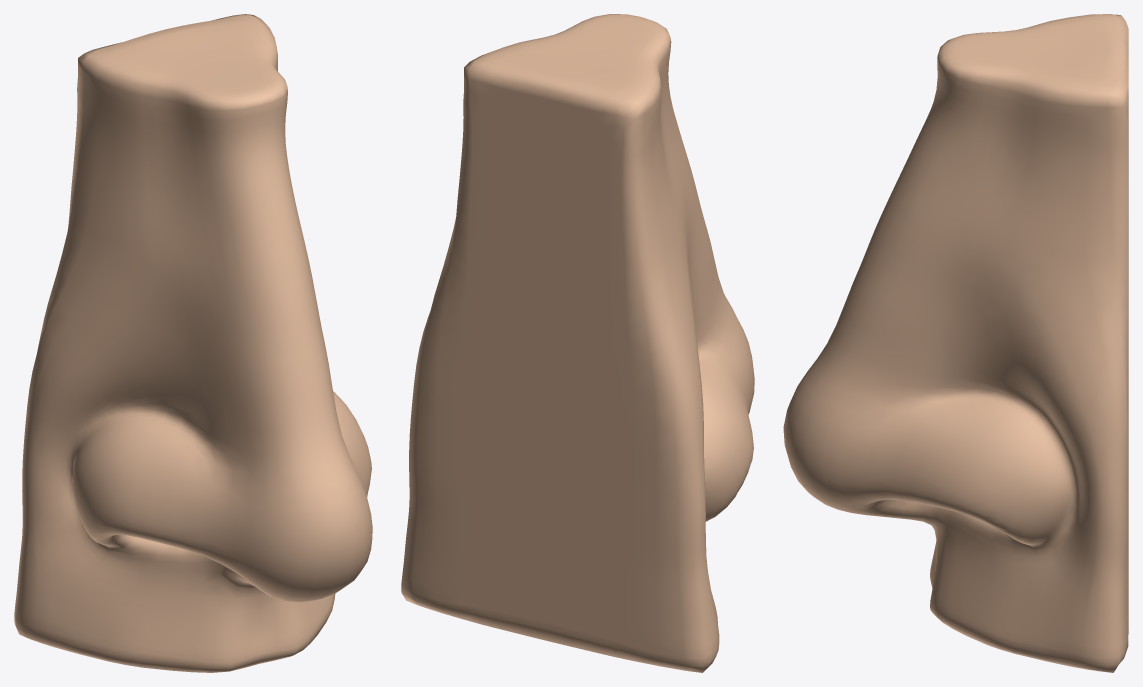
Rendered from hidung.glb.
3 views of the same model, side by side, from view 1: azimuth 30°, elevation 25°; view 2: azimuth 150°, elevation 25°; view 3: azimuth 270°, elevation 25° (orthographic). The views are drawn at different scales.
Parts seen in each view (by area): view 1: Retopo_Cube; view 2: Retopo_Cube; view 3: Retopo_Cube.
Part boxes in pixels (box(x1,y1,x2,y2)): Retopo_Cube: box(14, 14, 372, 672); Retopo_Cube: box(401, 14, 754, 672); Retopo_Cube: box(783, 14, 1128, 672).
Size of the model in its own units: 0.124 by 0.2158 by 0.1222.
